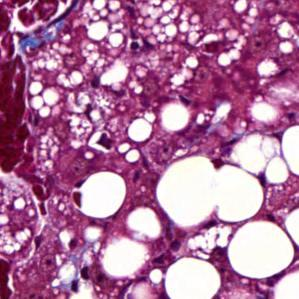steatosis: (70, 168, 130, 219)
